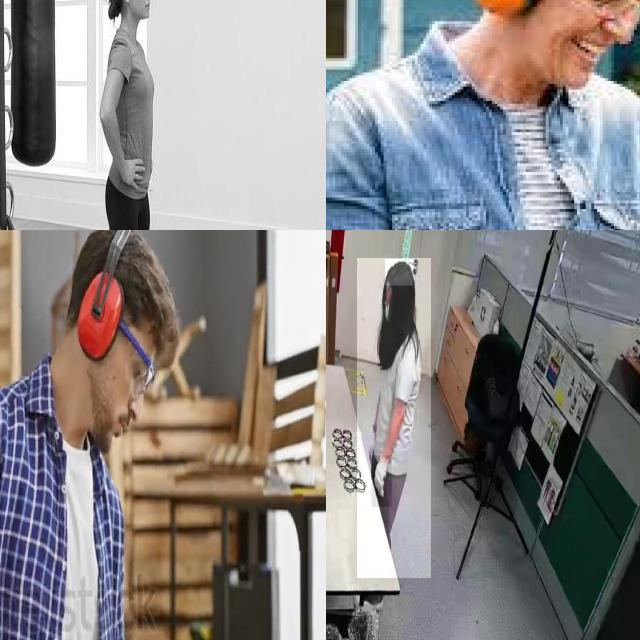Ear-protection: (70, 264, 124, 365)
No_Ear-Protection: (114, 0, 136, 11)
face_nomask: (137, 0, 161, 18)
glasses: (117, 312, 153, 408)
hand_glove: (372, 455, 392, 508)
hand_noglove: (114, 137, 166, 204)
head_nohelmet: (385, 259, 414, 286)
person: (0, 230, 182, 640), (357, 258, 431, 579), (98, 0, 163, 230)
